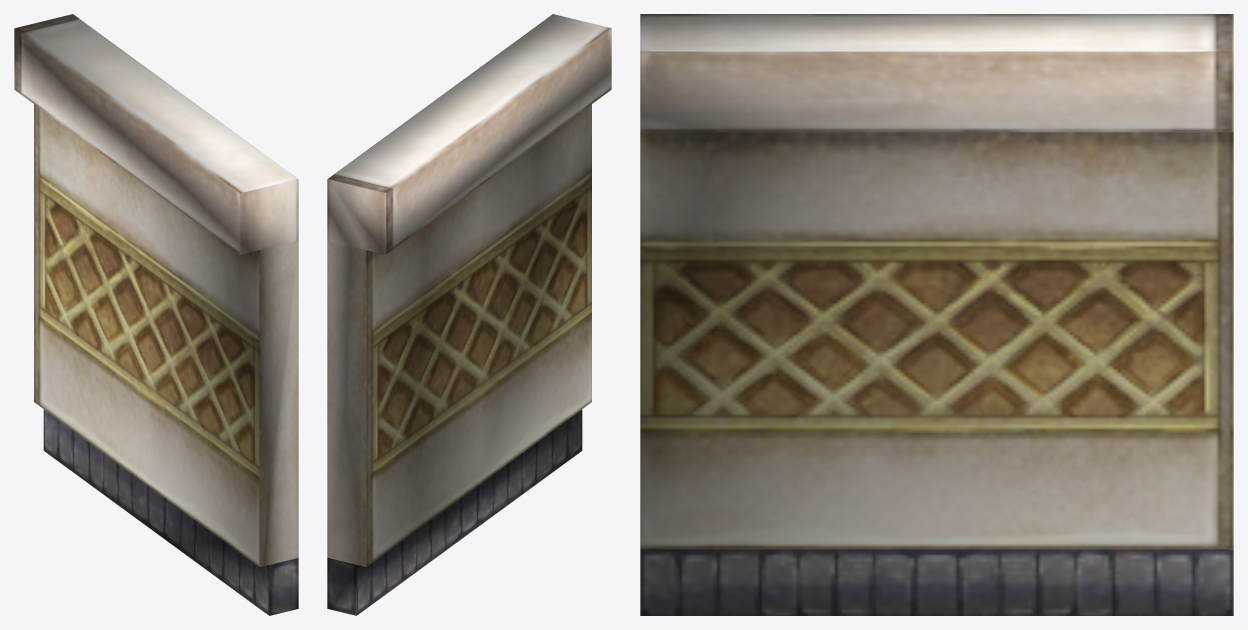
Rendered from a_SWEbwall01_5.glb.
3 renders of one model, left to right at view 1: azimuth 30°, elevation 25°; view 2: azimuth 150°, elevation 25°; view 3: azimuth 270°, elevation 25°, orthographic. The views are drawn at different scales.
Parts seen in each view (by area): view 1: a_SWEbwall01_5; view 2: a_SWEbwall01_5; view 3: a_SWEbwall01_5.
Boxes of the visible parts, left/top/right/bottom form: a_SWEbwall01_5: left=14, top=14, right=298, bottom=615; a_SWEbwall01_5: left=327, top=14, right=611, bottom=615; a_SWEbwall01_5: left=640, top=14, right=1233, bottom=615.
Bounding box in the file's own units: 0.3 × 2.1 × 2.
Materials: 1 (1 with a texture image).
